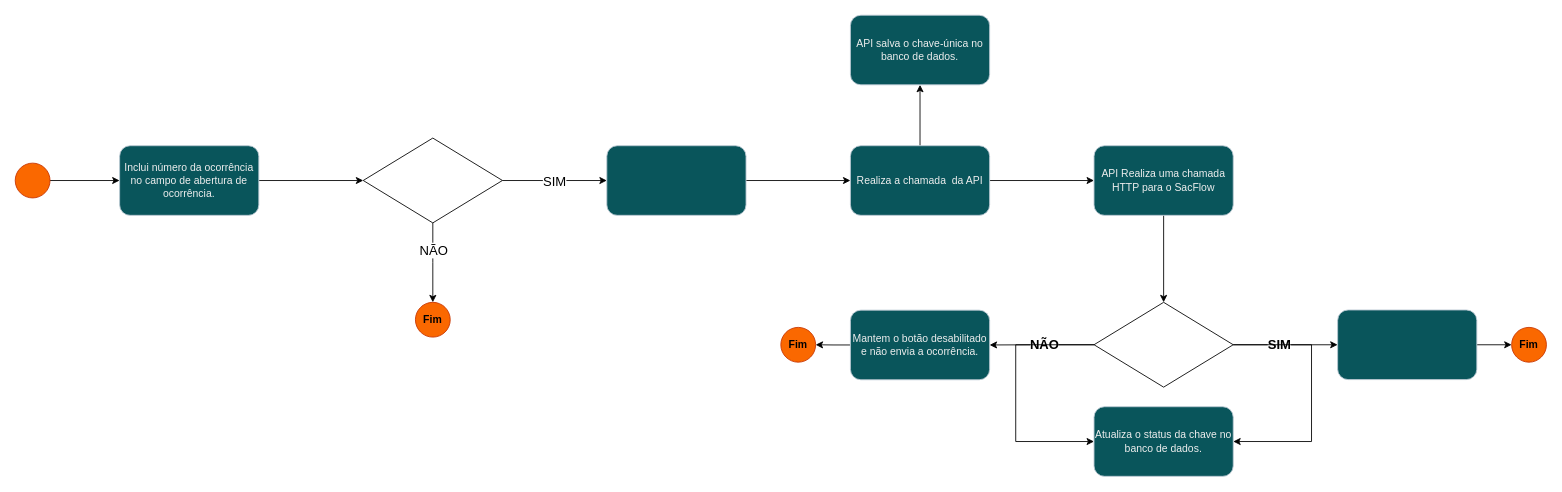
This 1562x492 diagram has some shape labels left out. The shapes that lost their labels are listed below. From the top down, each one's centre as x and y in pixels, then its label:
the point at 32,180: inicio
the point at 432,180: Número da ocorrência indicada possui restrição?
the point at 676,180: Bloqueia botão para não clicar várias vezes.
the point at 1163,344: SacFlow devolve dados para API
the point at 1407,344: Habilita o botão e realiza o click para enviar a aplicação.
